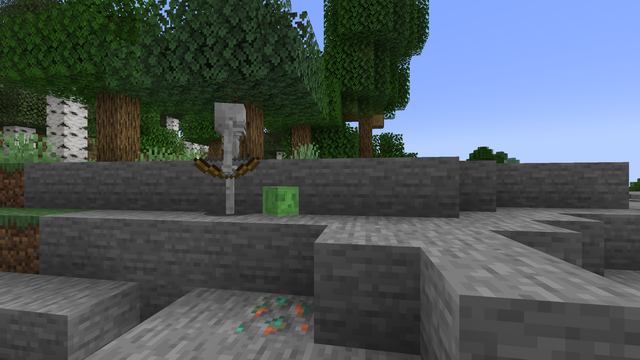slimes: (262, 185, 296, 216)
squelettes: (207, 102, 252, 215)
